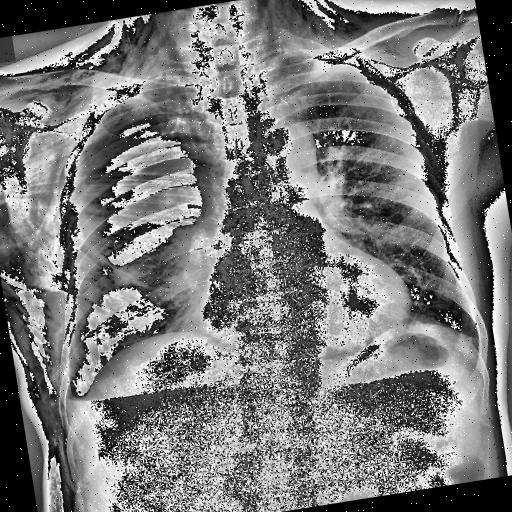0- Aortic enlargement: (243, 110, 321, 181)
10- Pleural effusion: (58, 372, 245, 426), (64, 386, 101, 427)
11- Pleural thickening: (64, 386, 101, 427)
12- Pneumothorax: (13, 67, 253, 404), (20, 71, 247, 401), (63, 121, 219, 270)
13- Pulmonary fibrosis: (94, 244, 132, 282)
3- Cardiomegaly: (192, 251, 416, 356)
7- Lung Opacity: (111, 222, 212, 307)
9- Other lesion: (0, 131, 270, 359), (0, 78, 124, 512), (21, 0, 414, 98), (1, 196, 93, 512), (0, 197, 75, 409), (34, 22, 192, 118), (18, 15, 173, 112), (250, 0, 401, 77), (258, 0, 383, 60), (38, 138, 76, 194)
